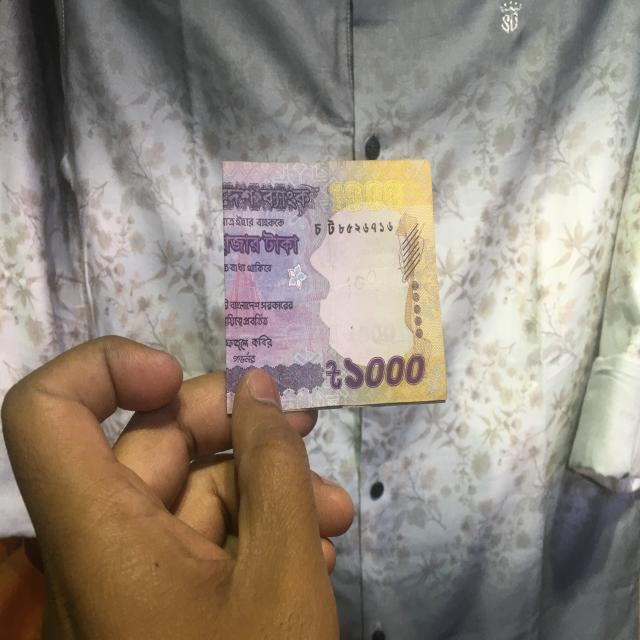Taka: (218, 162, 446, 406)
